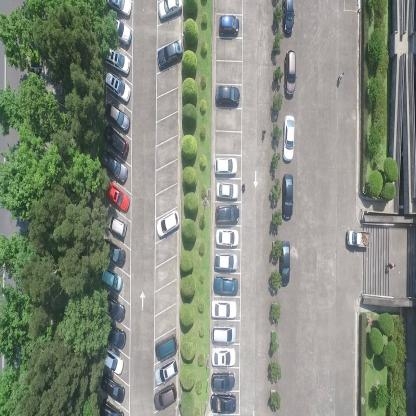car: (101, 148, 128, 184), (156, 36, 183, 70), (102, 124, 128, 159), (104, 70, 131, 103), (105, 179, 130, 214), (104, 100, 130, 133), (153, 356, 179, 386), (100, 372, 126, 402), (156, 207, 180, 239), (108, 16, 132, 48), (154, 330, 179, 360), (102, 239, 127, 269), (104, 47, 130, 75), (153, 381, 177, 411), (103, 292, 126, 323), (282, 112, 295, 164), (214, 83, 240, 108), (104, 346, 125, 376), (284, 48, 296, 99), (100, 267, 124, 292), (278, 240, 291, 286), (104, 322, 127, 348), (281, 171, 293, 220), (156, 0, 182, 22), (346, 229, 371, 251), (214, 204, 240, 225), (211, 298, 237, 319), (280, 0, 295, 36), (210, 324, 237, 344), (210, 348, 237, 368), (210, 392, 237, 412), (106, 213, 127, 238), (214, 156, 237, 178), (218, 14, 239, 38), (214, 252, 238, 273), (215, 228, 240, 248), (107, 0, 132, 19), (213, 276, 239, 294), (98, 398, 124, 416), (210, 372, 235, 390), (217, 181, 240, 200)
